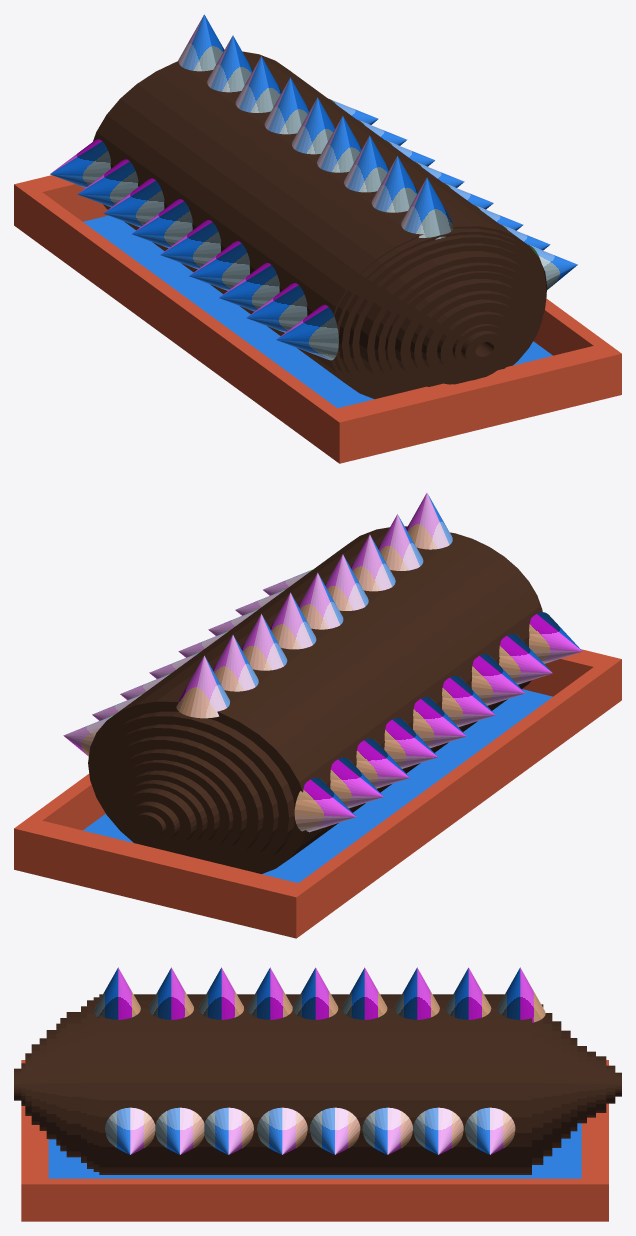
File: Troncoconpinches.fbx
3 renders of one model, top to bottom at view 1: azimuth 30°, elevation 25°; view 2: azimuth 150°, elevation 25°; view 3: azimuth 270°, elevation 25°, orthographic. The views are drawn at different scales.
Visible parts, largest first — view 1: Tronco; view 2: Tronco; view 3: Tronco.
Boxes of the visible parts, <box> form: Tronco: <box>14,14,621,463</box>; Tronco: <box>14,493,621,938</box>; Tronco: <box>14,967,621,1221</box>.
Size of the model in its own units: 127 by 83.97 by 239.
Materials: 1 (1 with a texture image).
